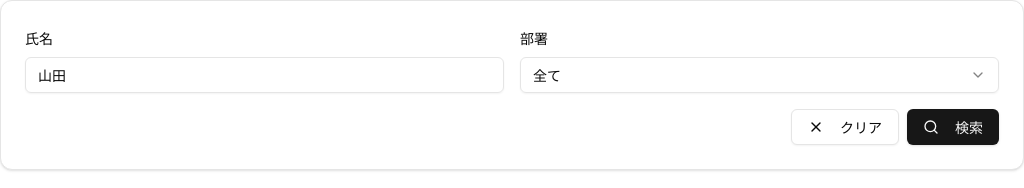
Test: SalesPersonsSearchForm › clear functionality › should reset form fields when clear button is clicked
The image size is (1024, 188).
Type "追加テキスト" into the field labelled "氏名". click: [264, 75]
box: left=25, top=57, right=504, bottom=93
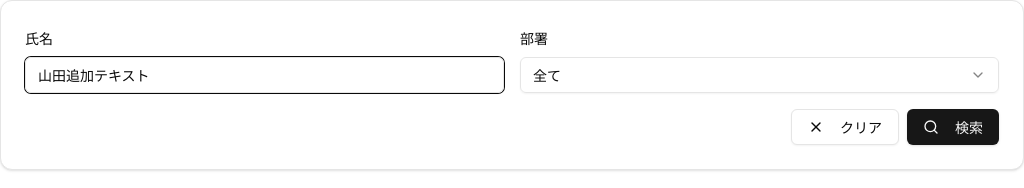
Click the button "クリア". click: [845, 127]
box: left=791, top=109, right=899, bottom=145
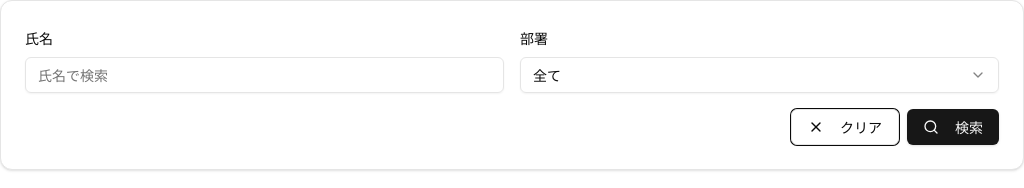
Result: the field labelled "氏名" is empty at left=25, top=57, right=504, bottom=93
